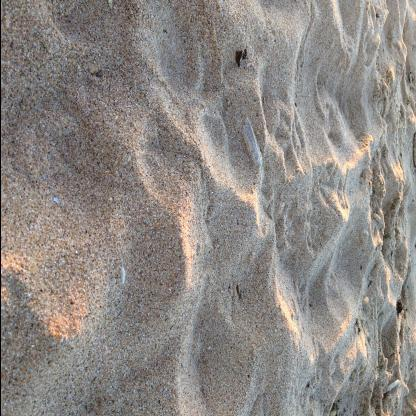plastik: (242, 119, 262, 167)
